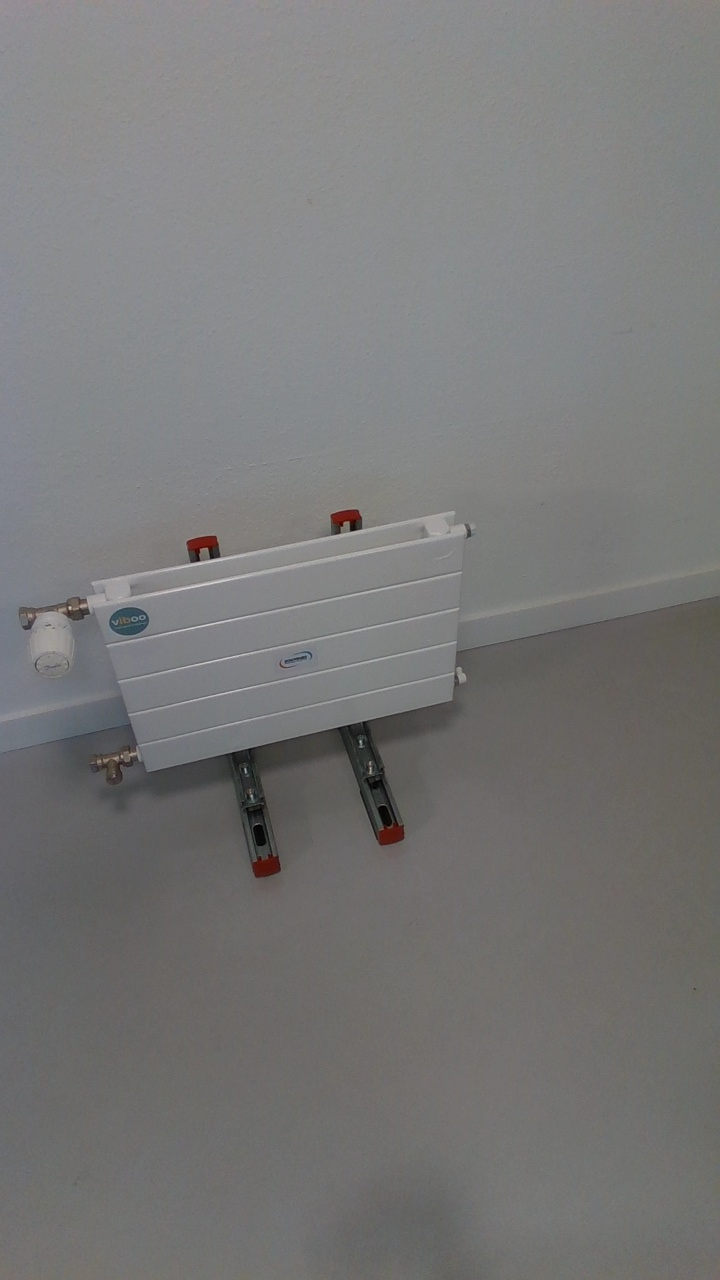Knob_Radiator: (16, 587, 93, 700)
Radiator: (87, 495, 472, 789)
